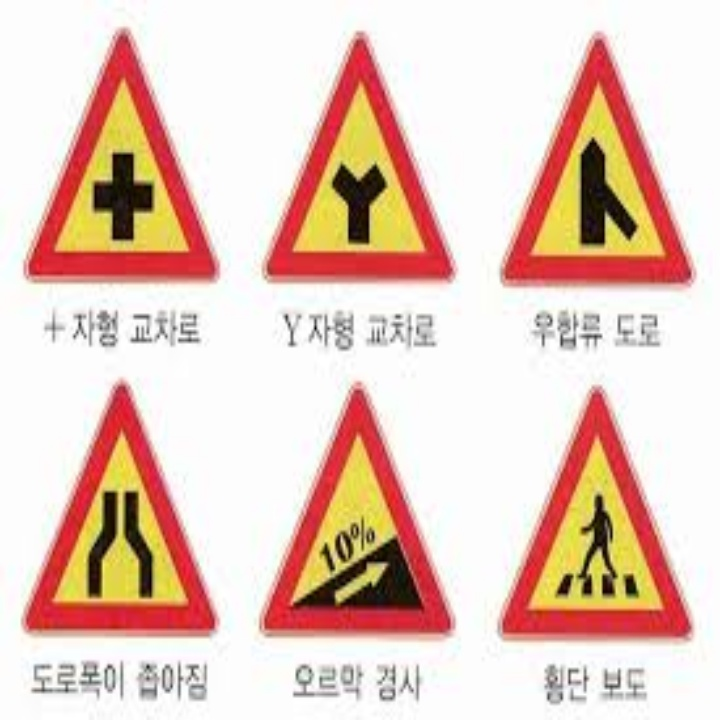cross: (556, 489, 636, 592)
inter: (87, 148, 162, 243)
